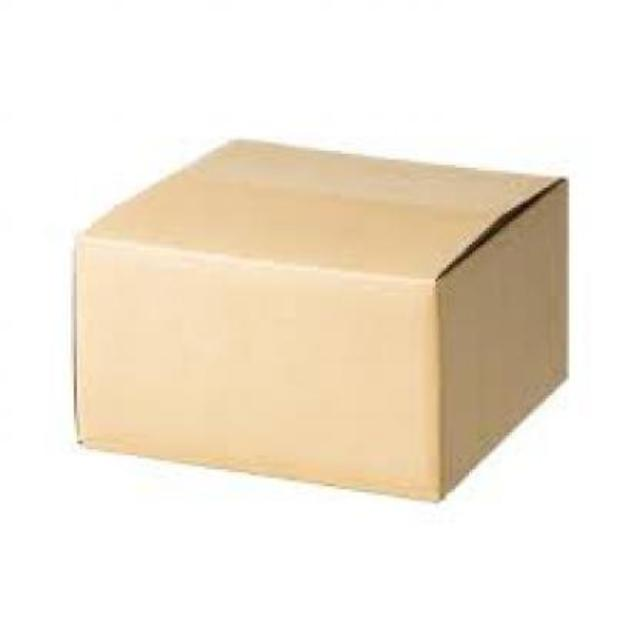cardboard_box: (68, 135, 580, 501)
